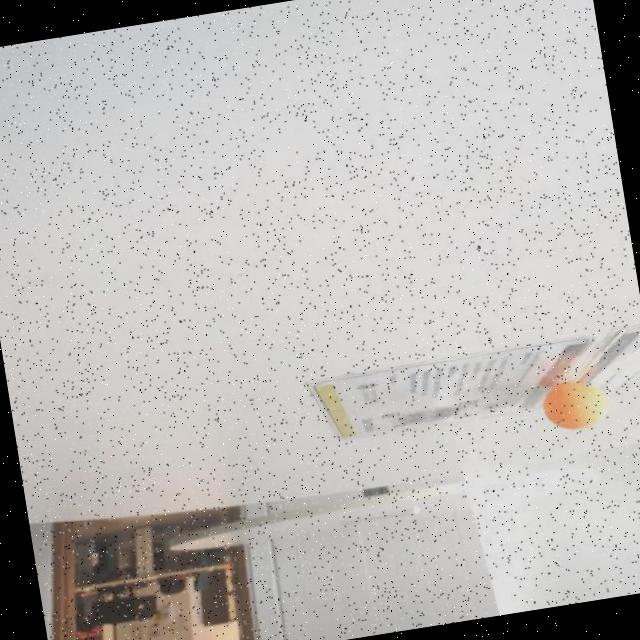ping-pong-ball: (538, 376, 610, 436)
